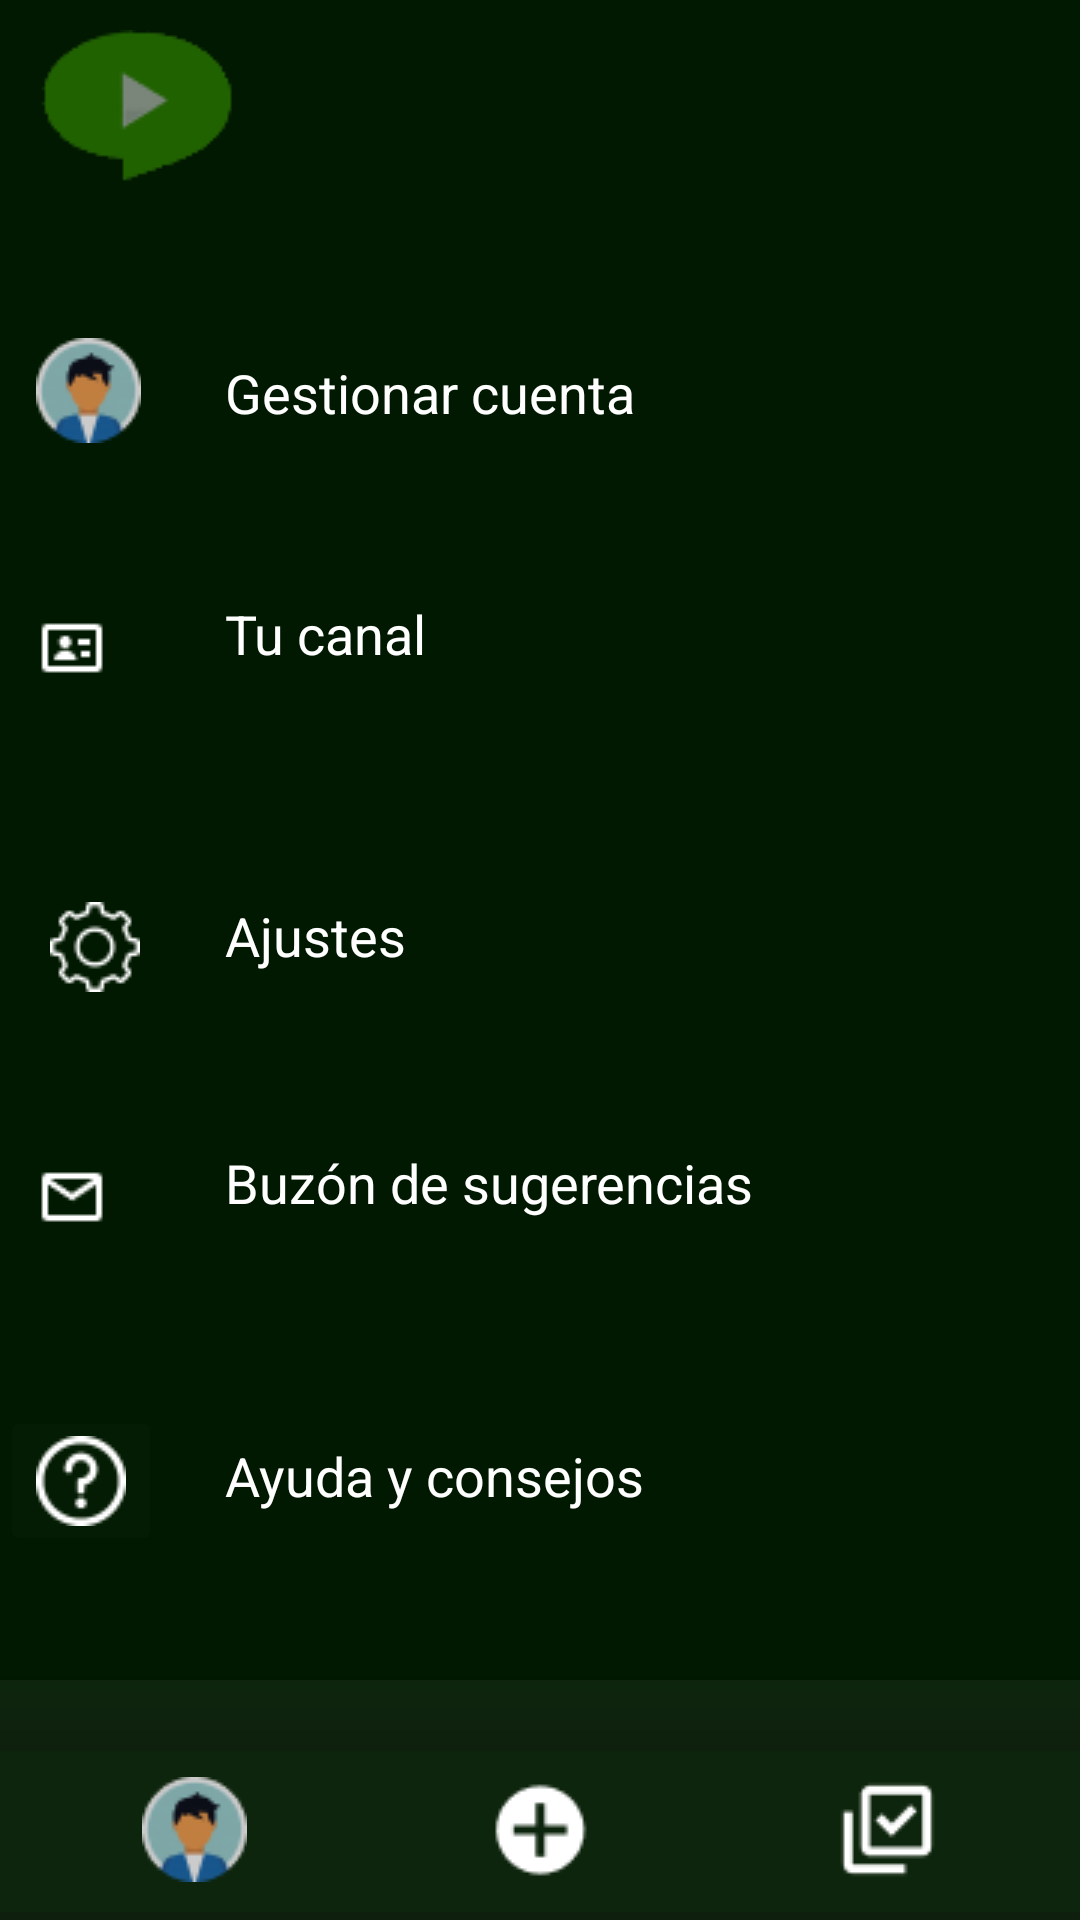

Icon click points for this 1080 × 1920 phone screenshot, format point (x, y):
ajustes: point (95, 947)
mail: point (72, 1197)
